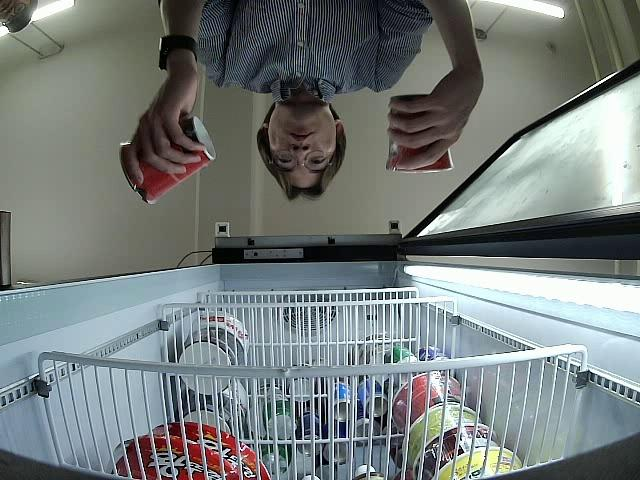00_hand: (387, 66, 483, 172), (127, 69, 204, 184)
02_shinRamen_S: (118, 116, 218, 206), (389, 94, 453, 174)
